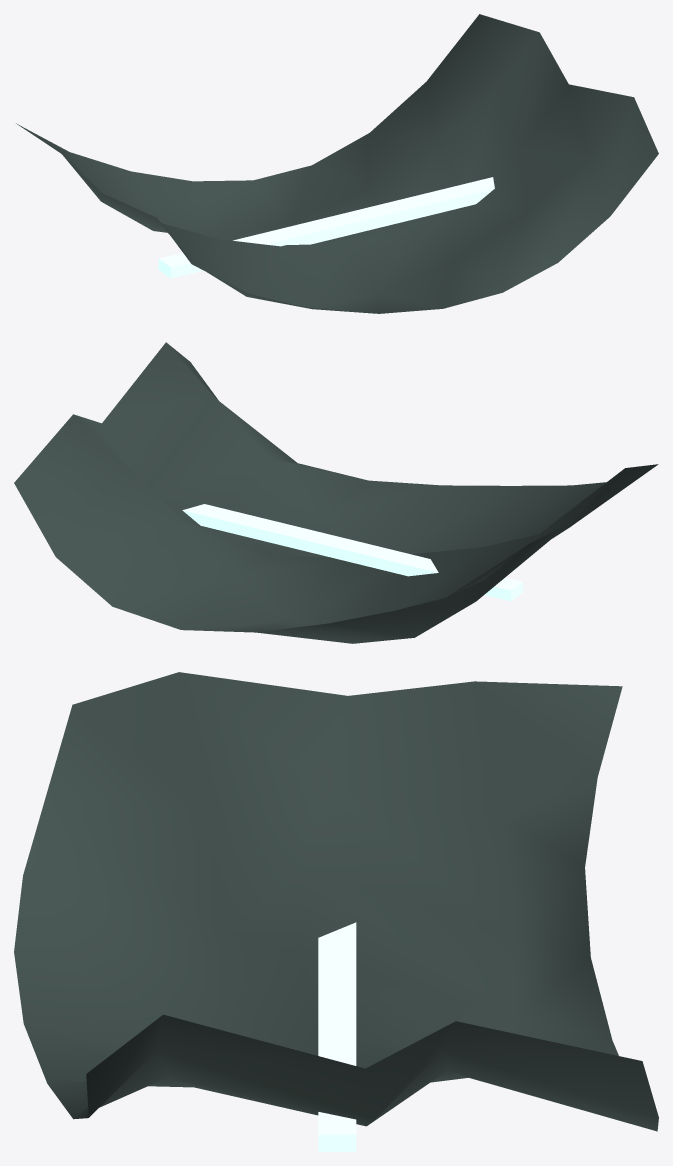
Rendered from item.relic_fragment.glb.
The picture shows the model from 3 angles, top to bottom: view 1: azimuth 30°, elevation 25°; view 2: azimuth 150°, elevation 25°; view 3: azimuth 270°, elevation 25°; orthographic projection. The views are drawn at different scales.
Visible parts, largest first — view 1: _MeshInstance3D_83, _MeshInstance3D_84; view 2: _MeshInstance3D_83, _MeshInstance3D_84; view 3: _MeshInstance3D_83, _MeshInstance3D_84.
Boxes of the visible parts, bbox=[...] form: _MeshInstance3D_83: bbox=[16, 14, 658, 313]; _MeshInstance3D_84: bbox=[158, 177, 494, 278]; _MeshInstance3D_83: bbox=[14, 342, 658, 643]; _MeshInstance3D_84: bbox=[182, 504, 523, 601]; _MeshInstance3D_83: bbox=[14, 672, 658, 1131]; _MeshInstance3D_84: bbox=[318, 922, 356, 1151].
Size of the model in its own units: 1.2 by 0.3693 by 0.9167.
